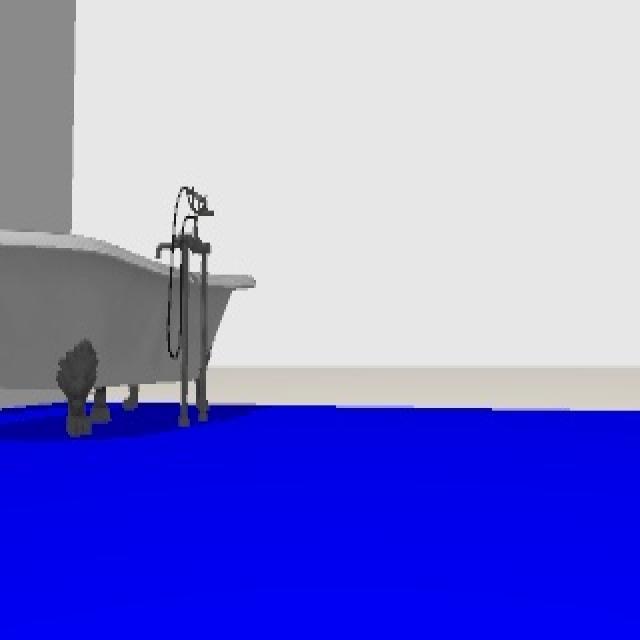bathtub: (2, 194, 256, 439)
